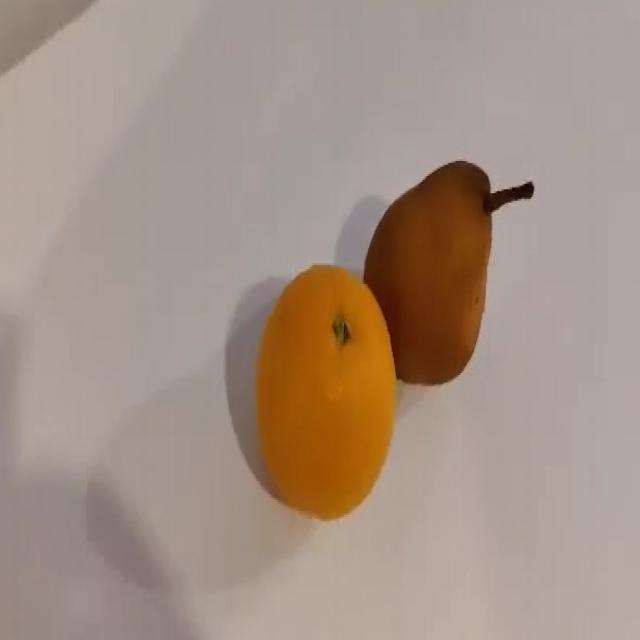Orange: (254, 263, 397, 521)
